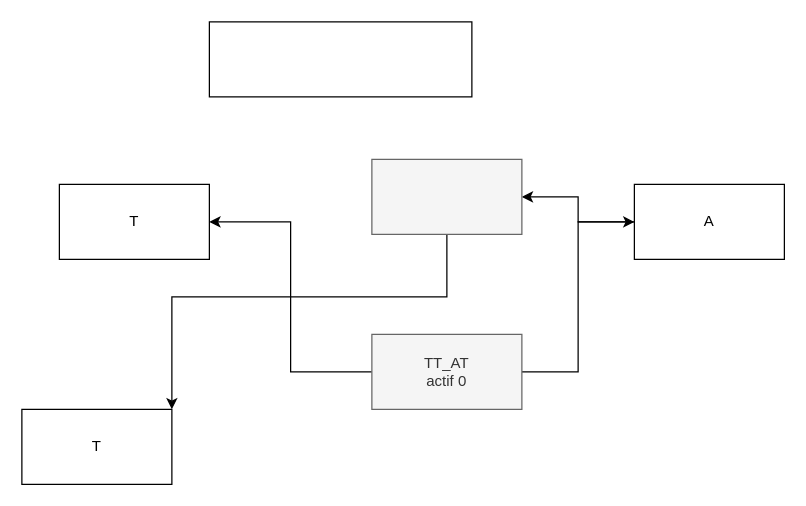
This 806x506 diagram has some shape labels left out. The centre of each missing label's shape, as x and y in pixels:
"dto mixte timeslot+appointement" belongs at [340,59].
"TT_AT actif 1" belongs at [446,196].
